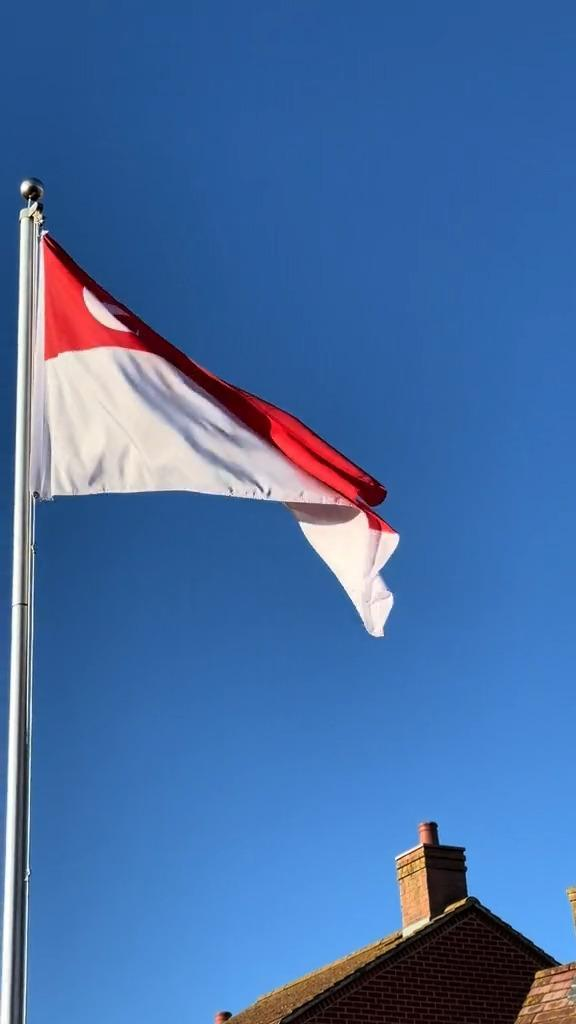Singapore: (37, 232, 398, 641)
